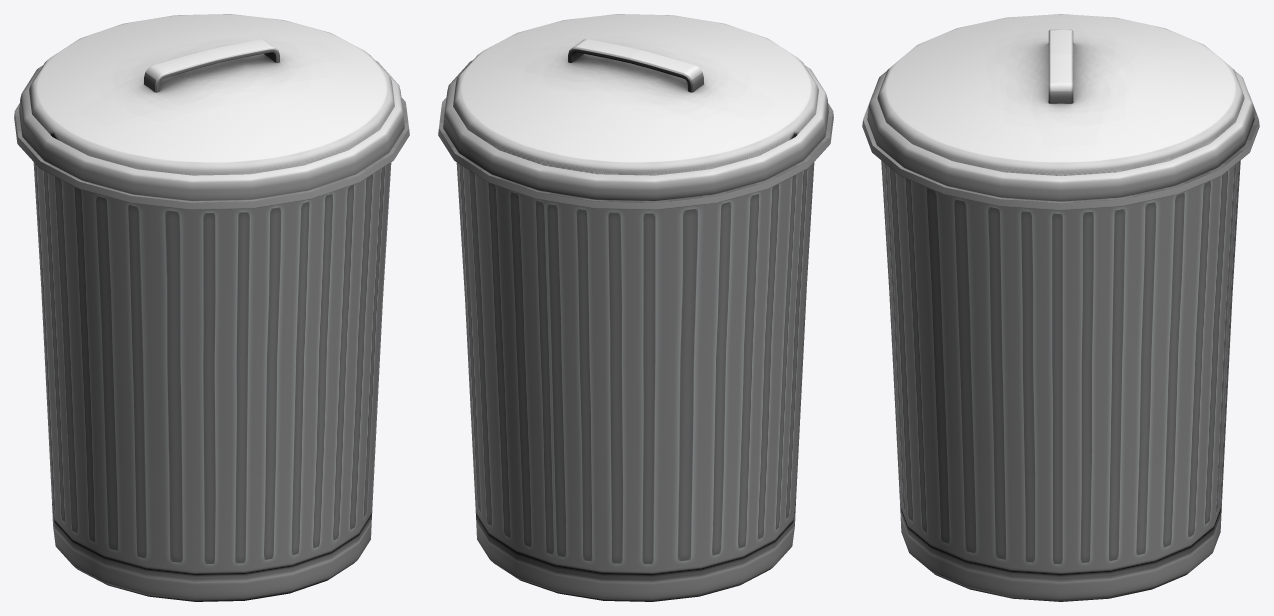
File: TrashCan_A.fbx
The picture shows the model from 3 angles, left to right: view 1: azimuth 30°, elevation 25°; view 2: azimuth 150°, elevation 25°; view 3: azimuth 270°, elevation 25°; orthographic projection.
Visible parts, largest first — view 1: Lid_Low1; view 2: Lid_Low1; view 3: Lid_Low1.
Boxes of the visible parts, <box> form: Lid_Low1: <box>14,14,409,601</box>; Lid_Low1: <box>438,14,833,601</box>; Lid_Low1: <box>862,14,1259,601</box>.
Bounding box in the file's own units: 86.89 × 116 × 86.89.
